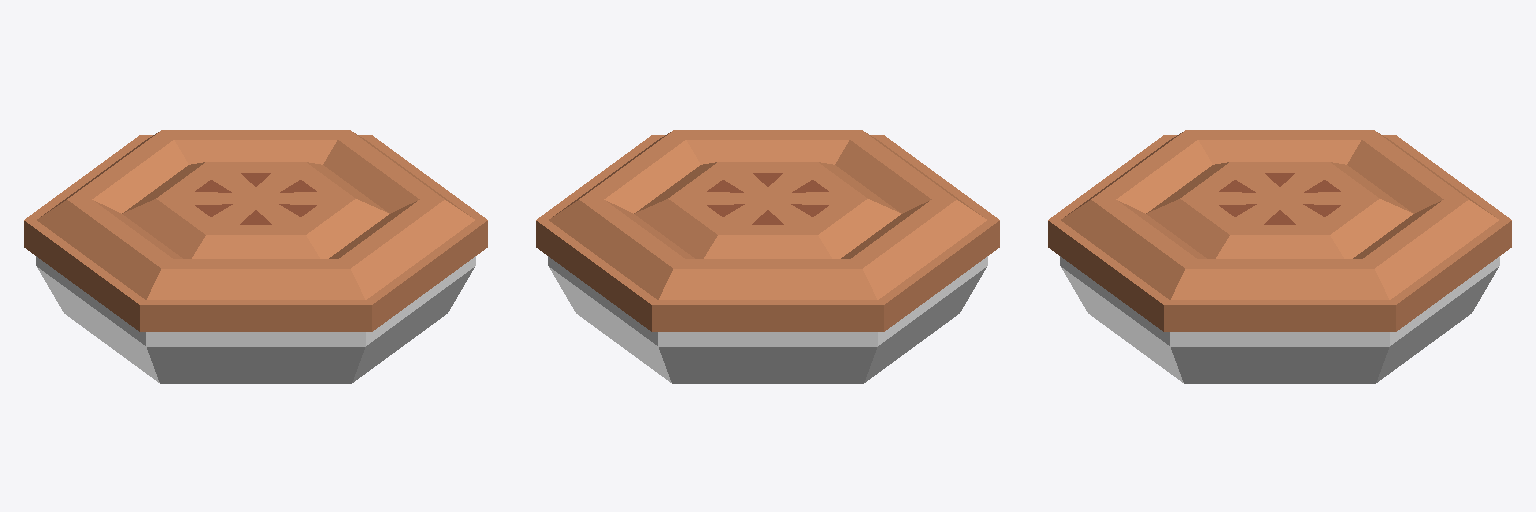
Rendered from mincemeatPie.obj.
The picture shows the model from 3 angles: view 1: azimuth 30°, elevation 25°; view 2: azimuth 150°, elevation 25°; view 3: azimuth 270°, elevation 25°; orthographic projection.
Parts seen in each view (by area): view 1: mincemeatPie; view 2: mincemeatPie; view 3: mincemeatPie.
Part boxes in pixels (x1,y1,x2,y2): mincemeatPie: (24,130,487,383); mincemeatPie: (536,130,999,383); mincemeatPie: (1048,130,1511,383).
Size of the model in its own units: 0.5309 by 0.1673 by 0.6131.